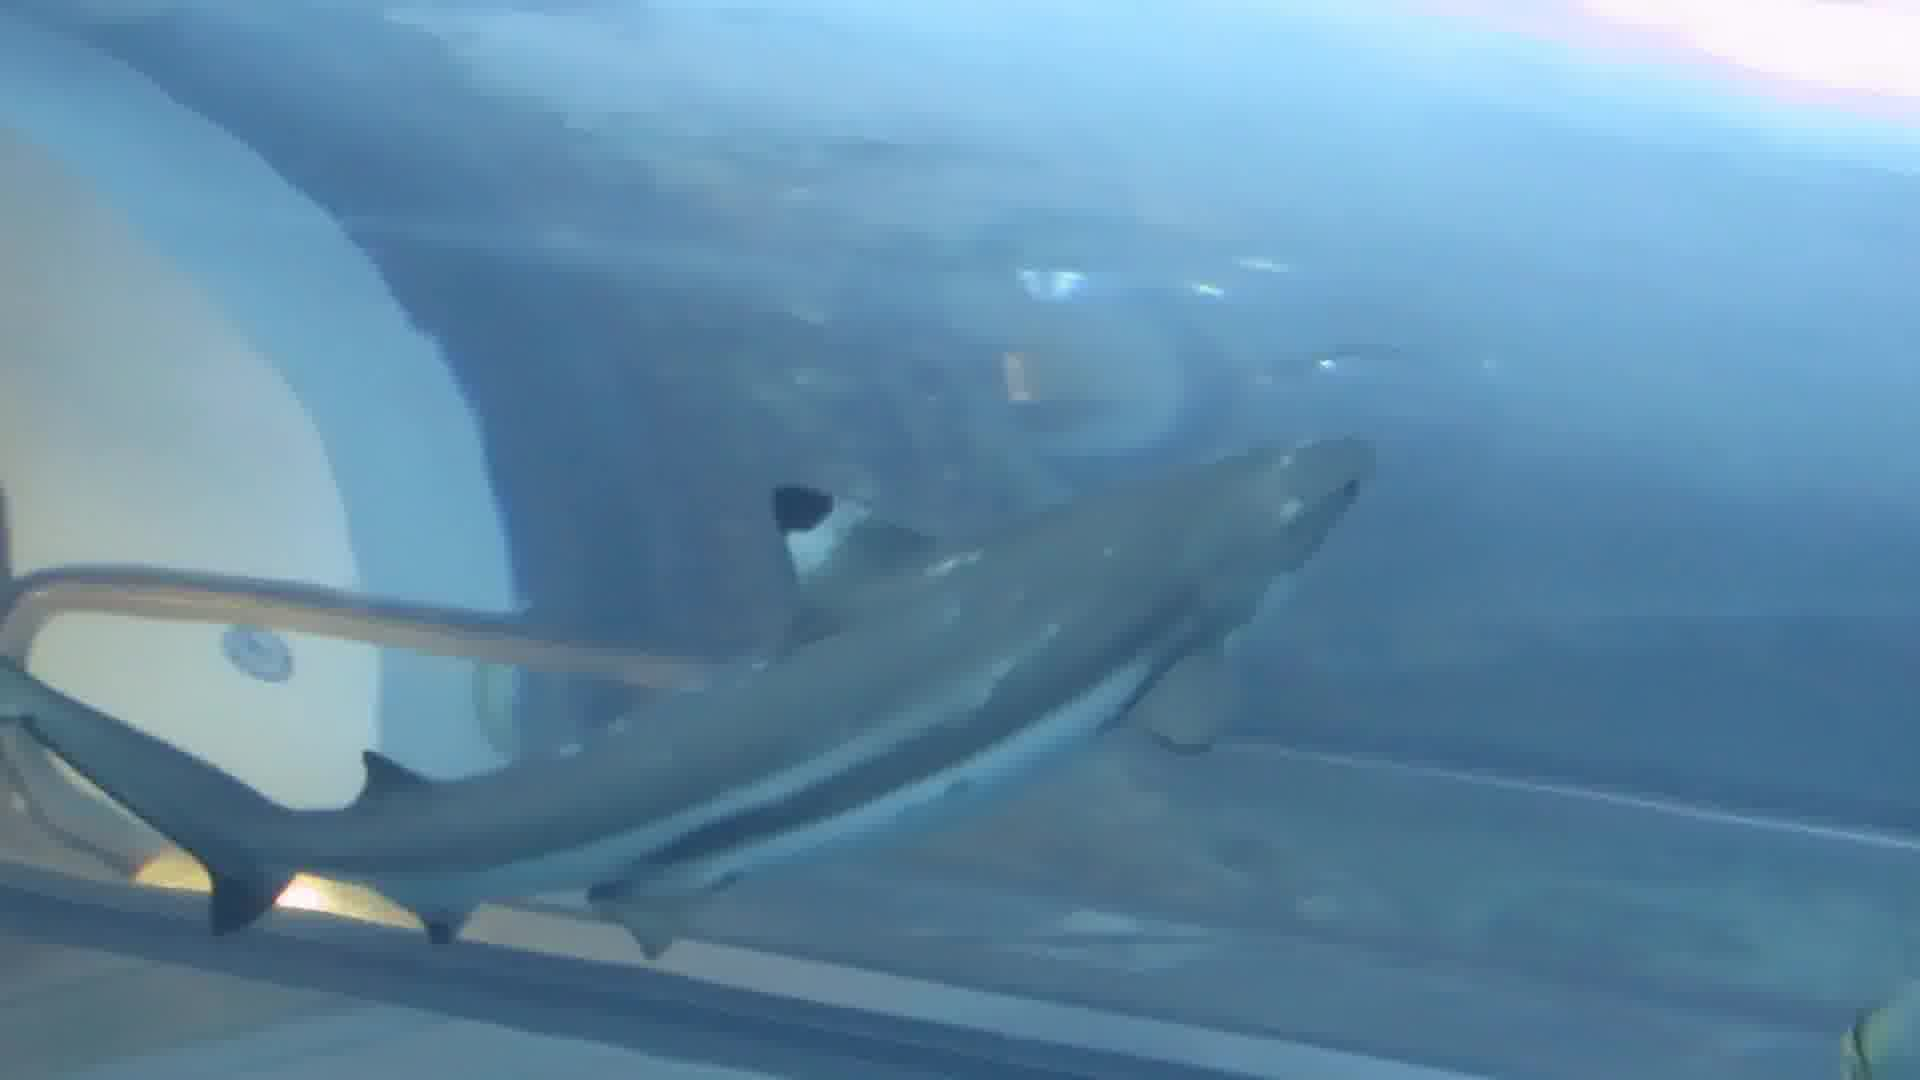Carcharhinus melanopterus: (1, 431, 1416, 938)
